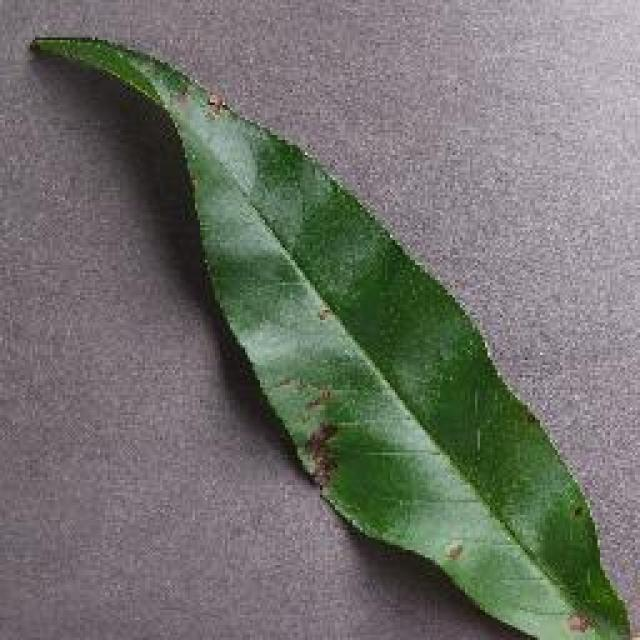Peach_Bacterial_Spot: (230, 284, 397, 524)
